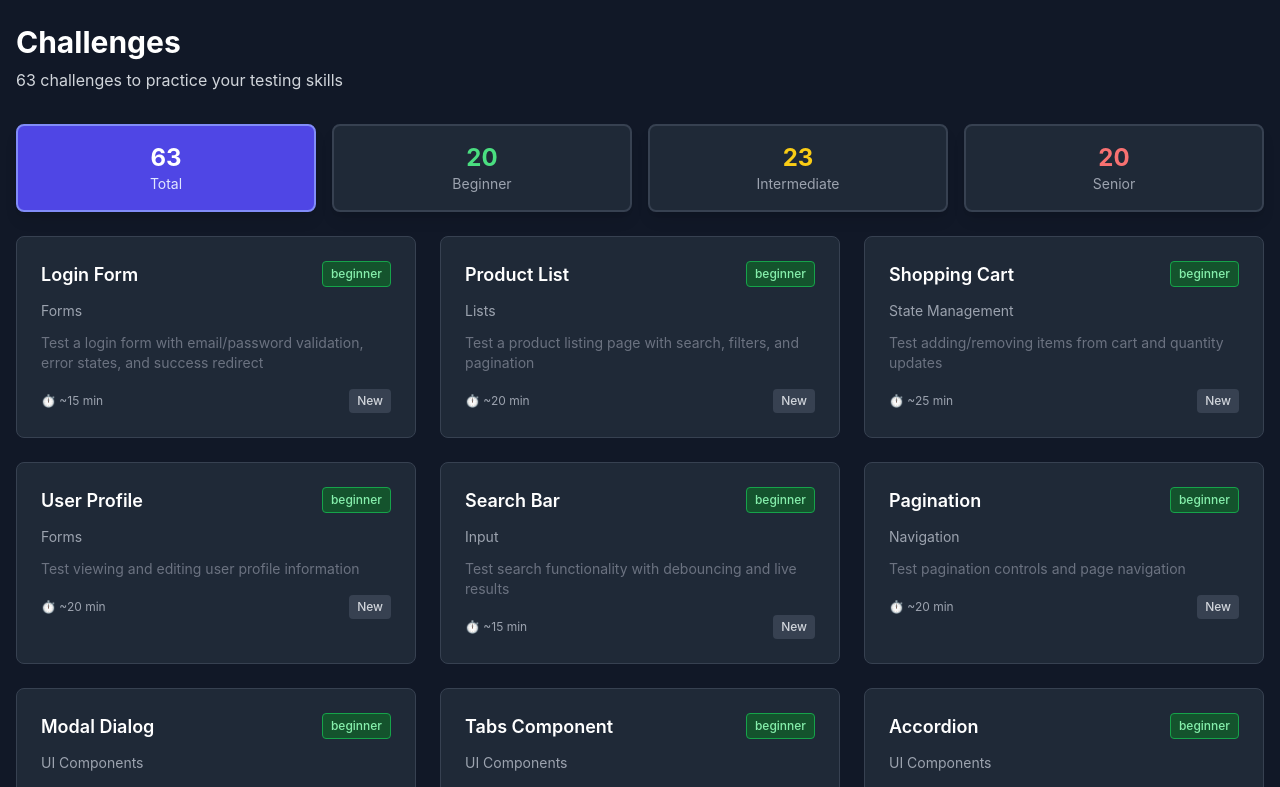
Scenario: ChallengesPage › should filter to intermediate challenges when clicked
Step 1. Click the button "23 Intermediate" → x=798, y=168, box [648,124,948,212]
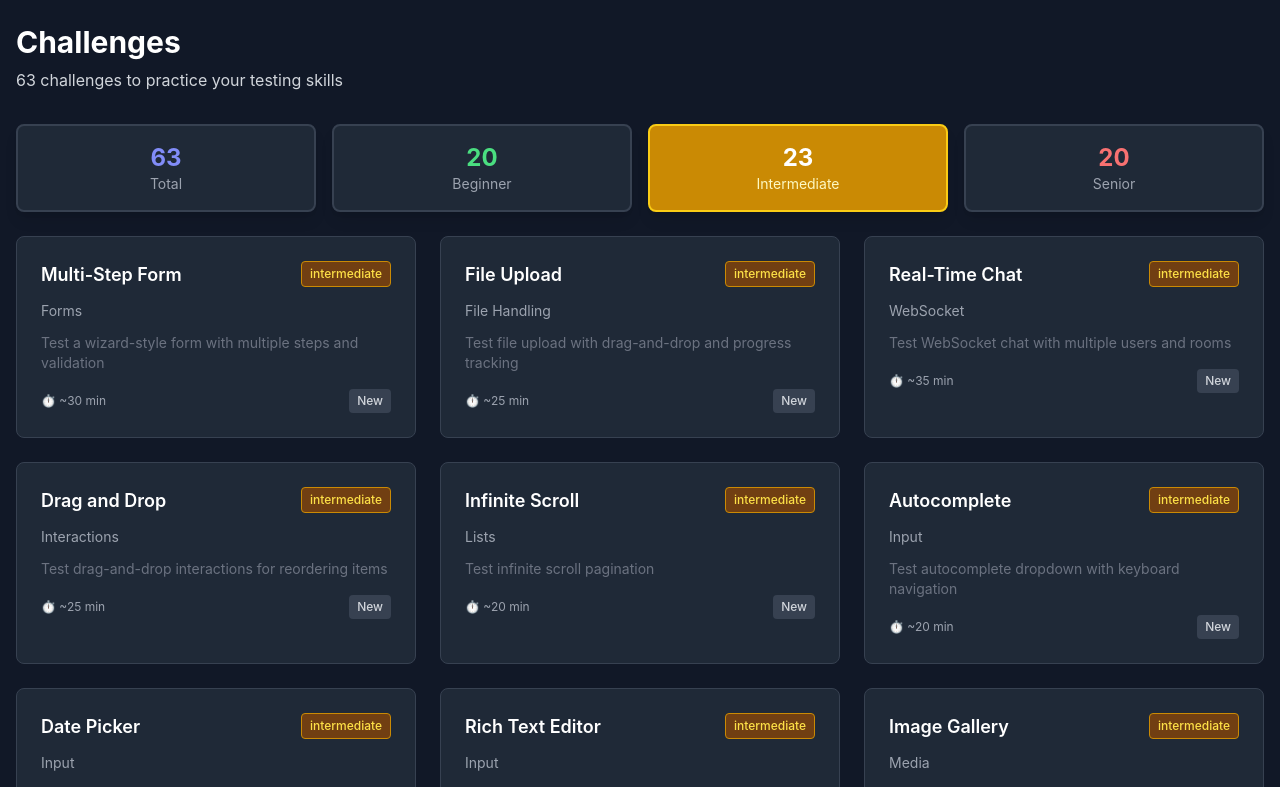
Expected: the number of links is 23
